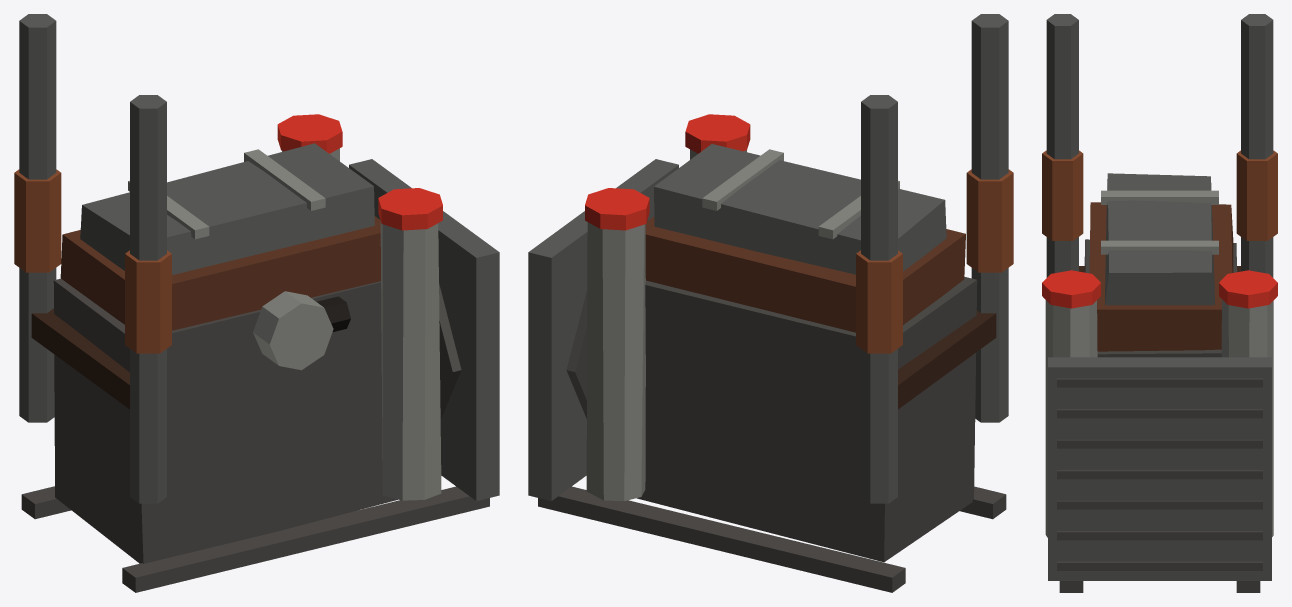
File: eng_heavy_diesel.glb
The picture shows the model from 3 angles, left to right: view 1: azimuth 30°, elevation 25°; view 2: azimuth 150°, elevation 25°; view 3: azimuth 270°, elevation 25°; orthographic projection. The views are drawn at different scales.
Visible parts, largest first — view 1: eng_heavy_diesel; view 2: eng_heavy_diesel; view 3: eng_heavy_diesel.
Part boxes in pixels (box(x1,y1,x2,y2)): eng_heavy_diesel: box(14, 14, 499, 592); eng_heavy_diesel: box(528, 14, 1013, 592); eng_heavy_diesel: box(1042, 14, 1277, 592).
Size of the model in its own units: 1.25 by 1.6 by 0.8.
